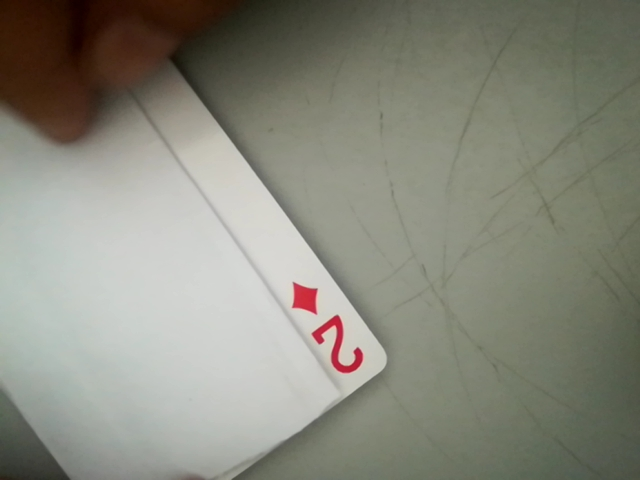fk 2: (286, 274, 376, 388)
